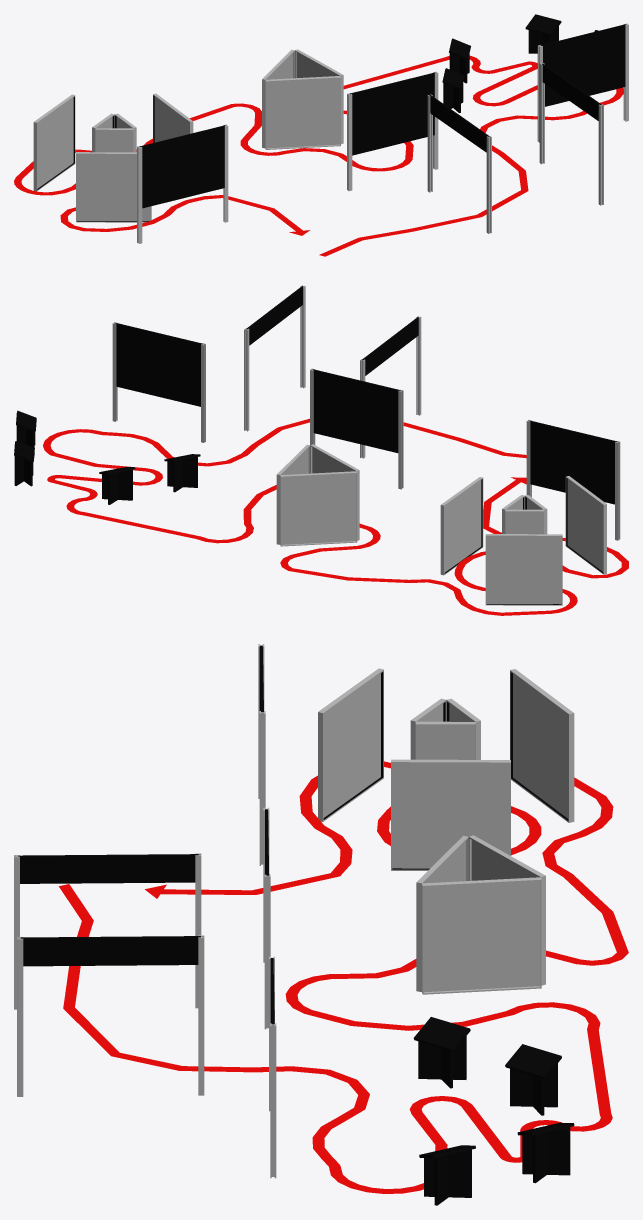
Rendered from Modellodefinitivo3.obj.
The picture shows the model from 3 angles, top to bottom: view 1: azimuth 30°, elevation 25°; view 2: azimuth 150°, elevation 25°; view 3: azimuth 270°, elevation 25°; orthographic projection. The views are drawn at different scales.
Bounding box in the file's own units: 352 × 58 × 205.
